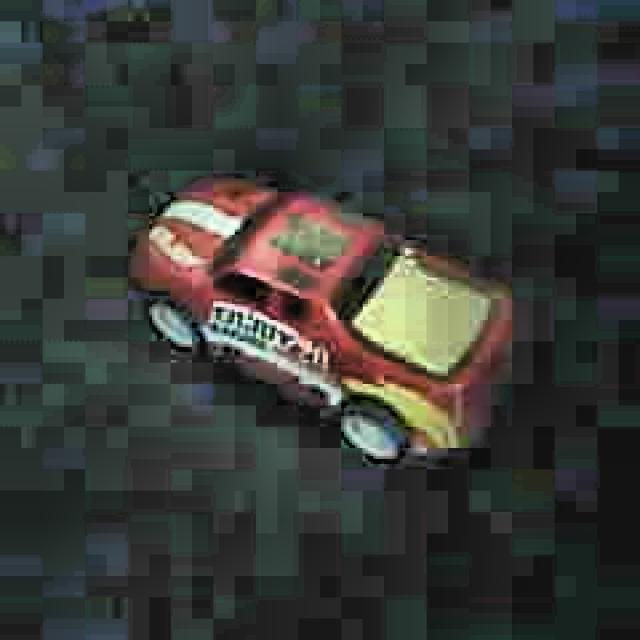car: (129, 170, 527, 476)
